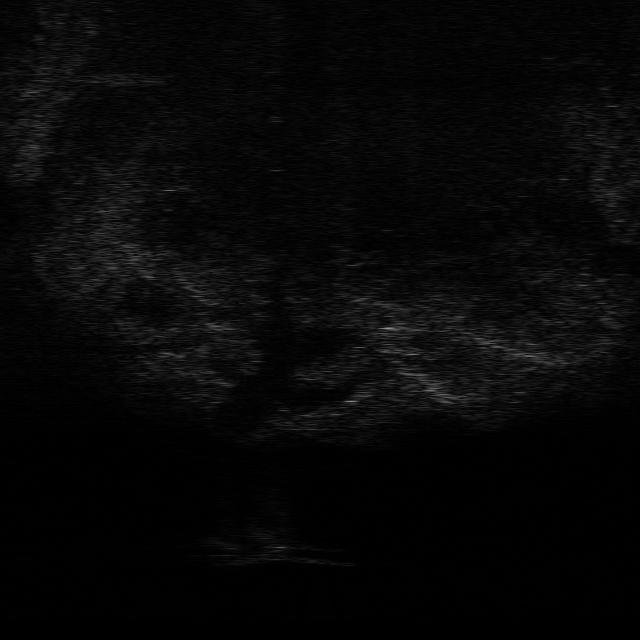plane: (206, 524, 359, 567)
